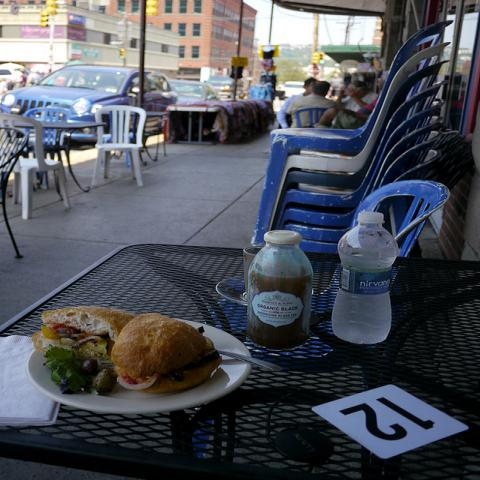car: (0, 64, 179, 142), (170, 79, 218, 104)
